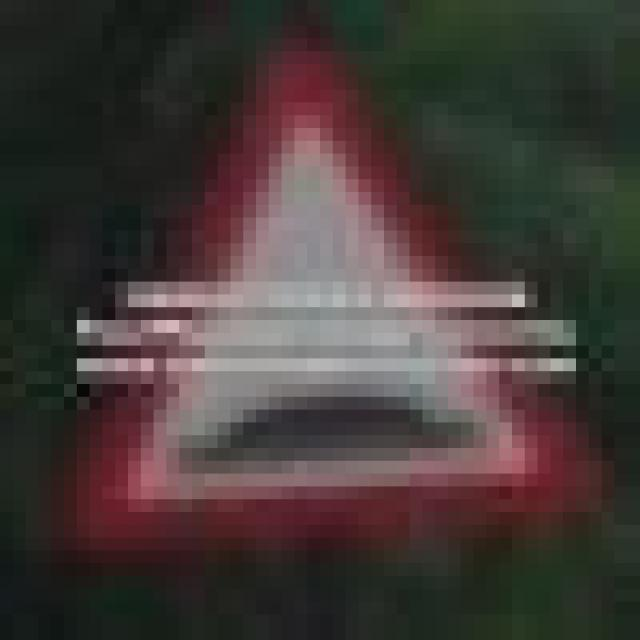HUMP_OR_ROUGH_ROAD: (64, 51, 576, 525)
